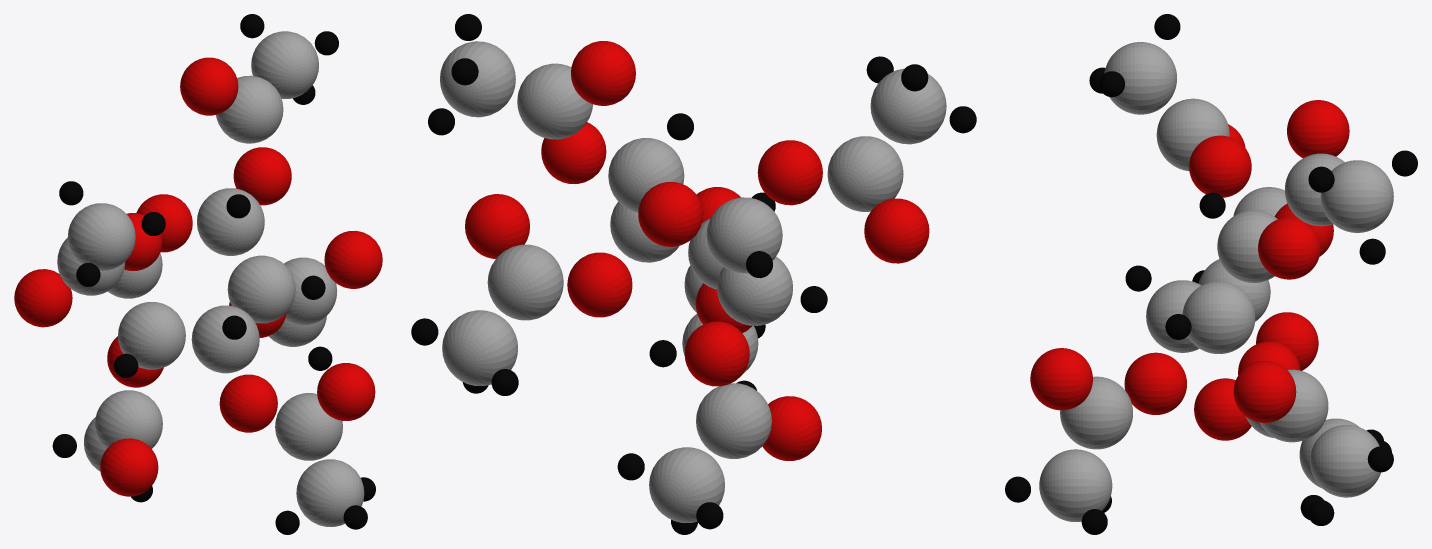
Rendered from Sucrose Octaacetate.glb.
3 views of the same model, side by side, from view 1: azimuth 30°, elevation 25°; view 2: azimuth 150°, elevation 25°; view 3: azimuth 270°, elevation 25° (orthographic). The views are drawn at different scales.
Visible parts, largest first — view 1: world; view 2: world; view 3: world.
Part boxes in pixels (<box>): world: <box>14,14,382,534</box>; world: <box>411,14,976,534</box>; world: <box>1005,14,1417,534</box>.
Size of the model in its own units: 9.13 by 9.59 by 7.91.
